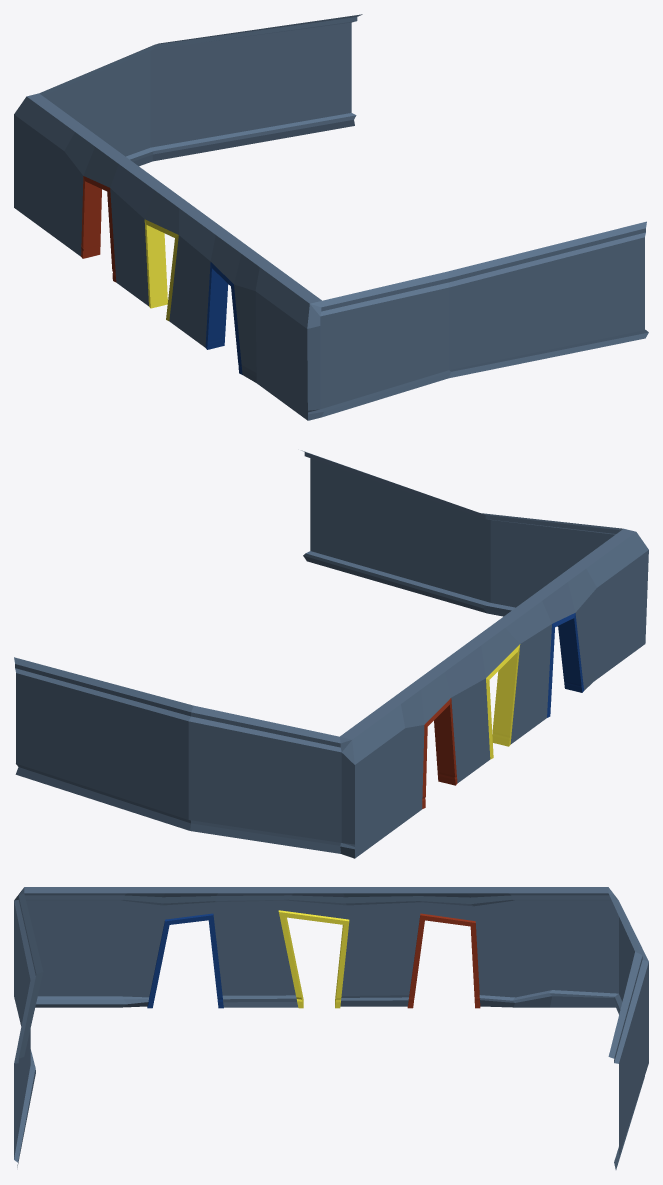
Rendered from Mur_15m.fbx.
3 views of the same model, one above another, from view 1: azimuth 30°, elevation 25°; view 2: azimuth 150°, elevation 25°; view 3: azimuth 270°, elevation 25° (orthographic). The views are drawn at different scales.
Parts seen in each view (by area): view 1: Mur_Salle15M, Mur_Porte15M; view 2: Mur_Salle15M, Mur_Porte15M; view 3: Mur_Porte15M, Mur_Salle15M.
Part boxes in pixels (x1,y1,x2,y2): Mur_Salle15M: (39, 14, 648, 417); Mur_Porte15M: (14, 93, 323, 420); Mur_Salle15M: (14, 450, 623, 853); Mur_Porte15M: (339, 529, 648, 858); Mur_Porte15M: (14, 887, 618, 1008); Mur_Salle15M: (14, 893, 648, 1169).
Size of the model in its own units: 1597 by 535 by 2464.
